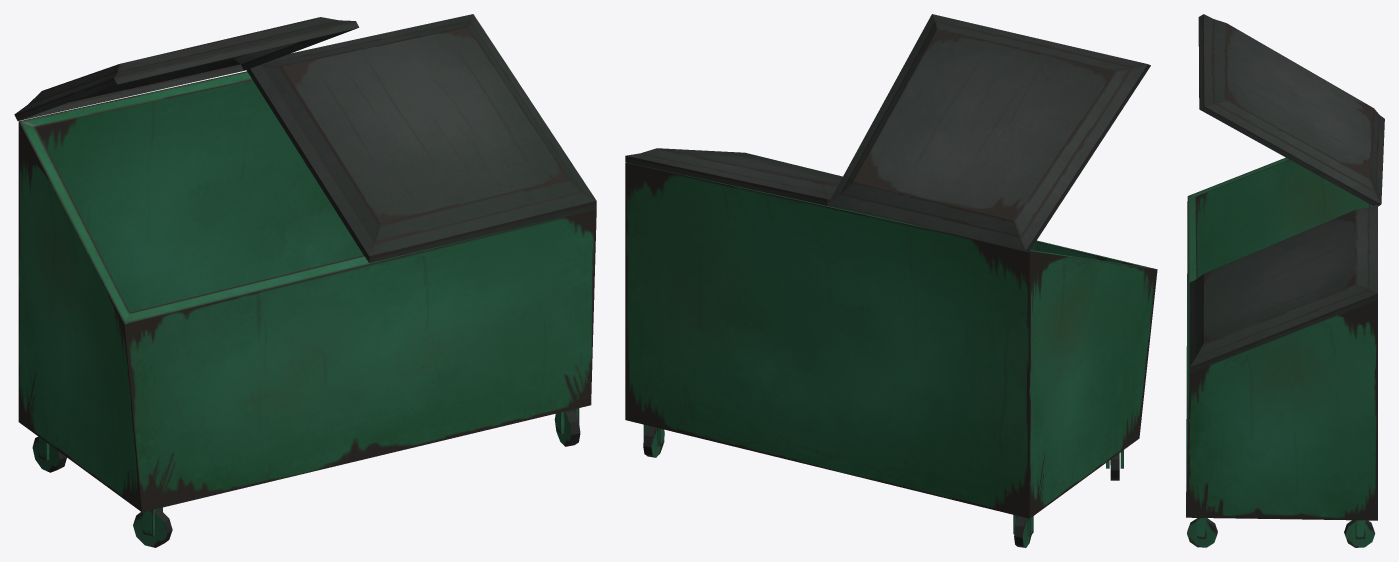
The model's file is Dumpster.fbx.
3 views of the same model, side by side, from view 1: azimuth 30°, elevation 25°; view 2: azimuth 150°, elevation 25°; view 3: azimuth 270°, elevation 25° (orthographic). The views are drawn at different scales.
Parts seen in each view (by area): view 1: Dumbster; view 2: Dumbster; view 3: Dumbster.
Part boxes in pixels (x1,y1,x2,y2): Dumbster: (14, 14, 596, 547); Dumbster: (625, 14, 1157, 547); Dumbster: (1186, 14, 1384, 547).
Bounding box in the file's own units: 183 × 175 × 86.93.
